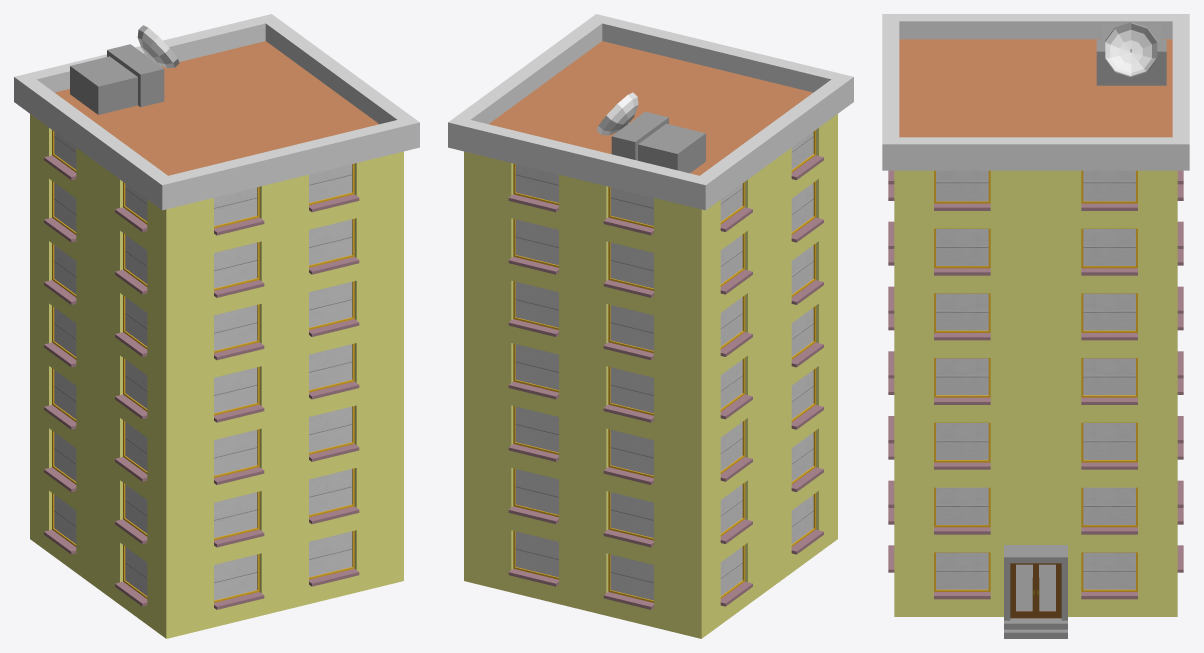
File: Bulding_2.fbx
3 renders of one model, left to right at view 1: azimuth 30°, elevation 25°; view 2: azimuth 150°, elevation 25°; view 3: azimuth 270°, elevation 25°, orthographic. The views are drawn at different scales.
Visible parts, largest first — view 1: Condominio, Tetto.002; view 2: Condominio, Tetto.002; view 3: Condominio, Tetto.002, Entrata.
Boxes of the visible parts, box(x1,y1,x2,y2) form: Condominio: box(30, 114, 403, 638); Tetto.002: box(14, 14, 419, 210); Condominio: box(464, 114, 837, 638); Tetto.002: box(448, 14, 853, 210); Condominio: box(888, 170, 1183, 616); Tetto.002: box(882, 14, 1189, 170); Entrata: box(1004, 545, 1067, 638).
Bounding box in the file's own units: 1162 × 2109 × 1097.
